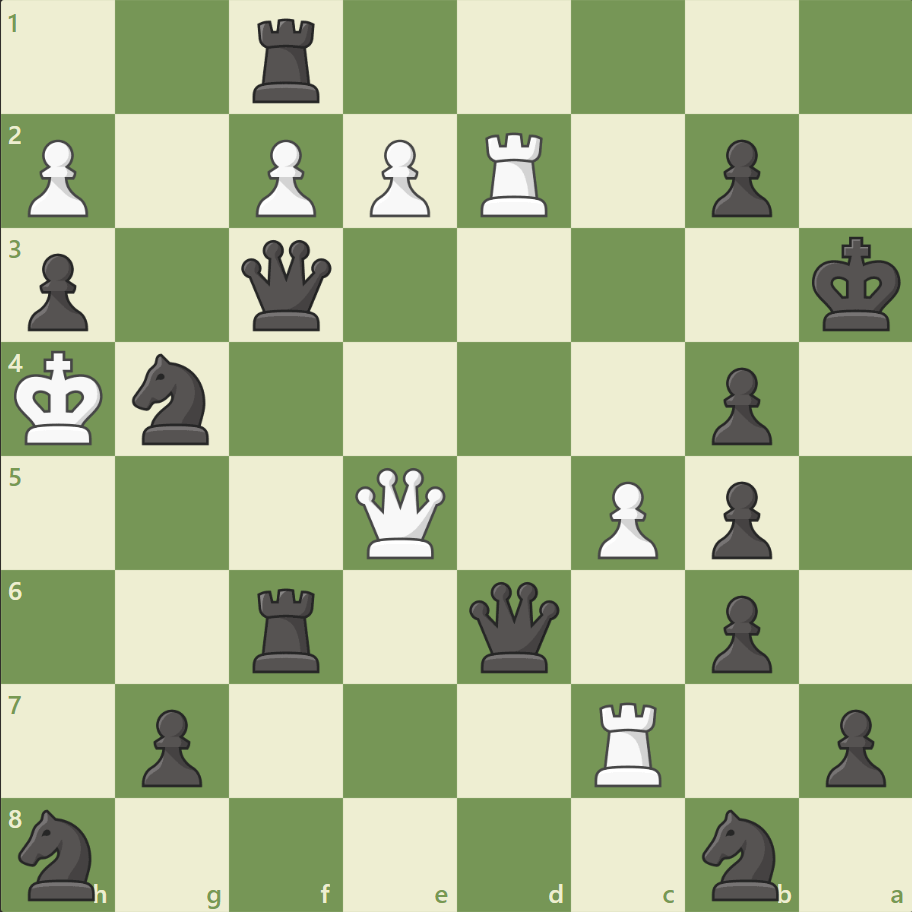K: (11, 344, 111, 452)
P: (247, 132, 322, 223), (20, 132, 95, 223), (588, 473, 662, 564), (361, 132, 435, 223)
Q: (351, 463, 450, 562)
R: (587, 693, 670, 790), (473, 125, 556, 222)
k: (806, 231, 906, 339)
n: (124, 348, 222, 450), (692, 802, 789, 904), (11, 802, 108, 904)
p: (133, 700, 208, 791), (701, 586, 776, 677), (701, 473, 776, 564), (701, 359, 776, 450), (20, 246, 95, 337), (701, 132, 776, 223), (815, 700, 889, 791)
q: (464, 576, 563, 676), (237, 236, 336, 335)
r: (246, 579, 329, 676), (246, 12, 329, 109)
